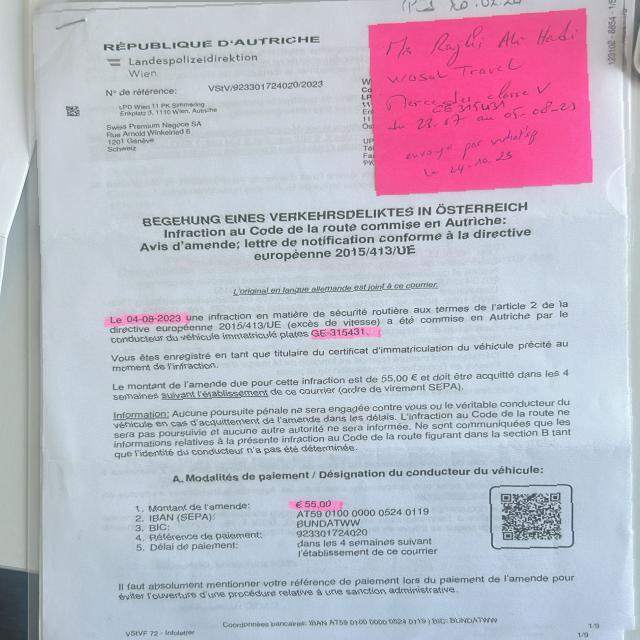paper-document-: (34, 0, 638, 640)
